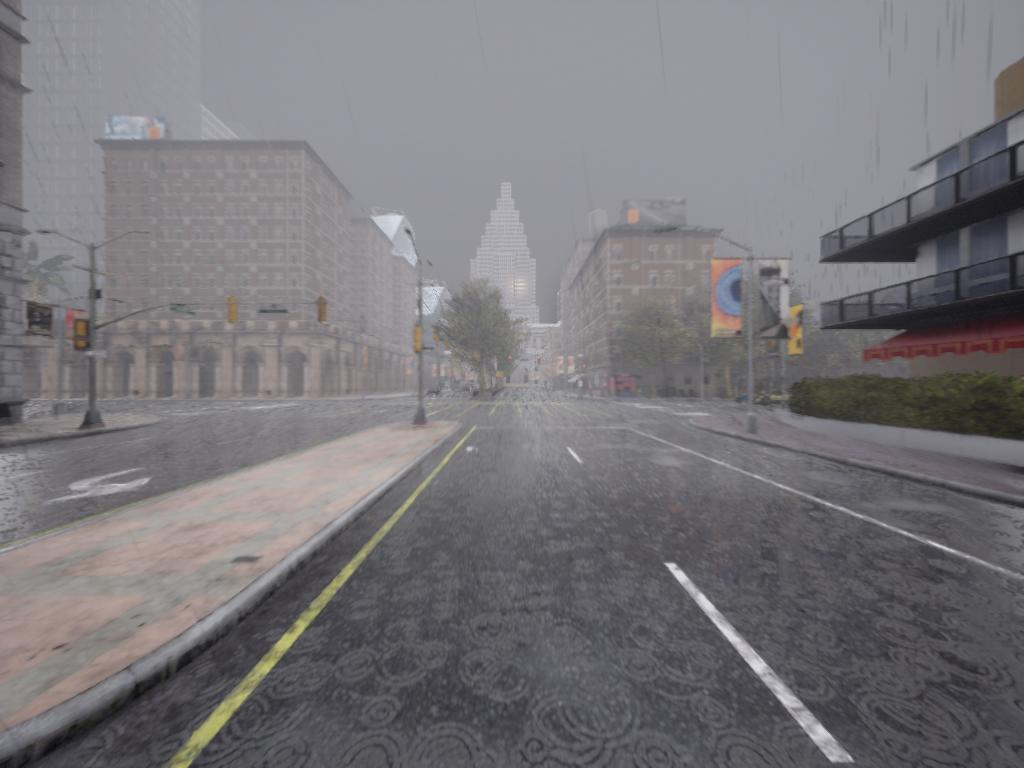traffic_light: (228, 298, 239, 324), (319, 296, 327, 324), (413, 328, 422, 352), (507, 355, 514, 369), (536, 356, 543, 369), (434, 333, 441, 346), (446, 340, 452, 352), (583, 364, 588, 378)
